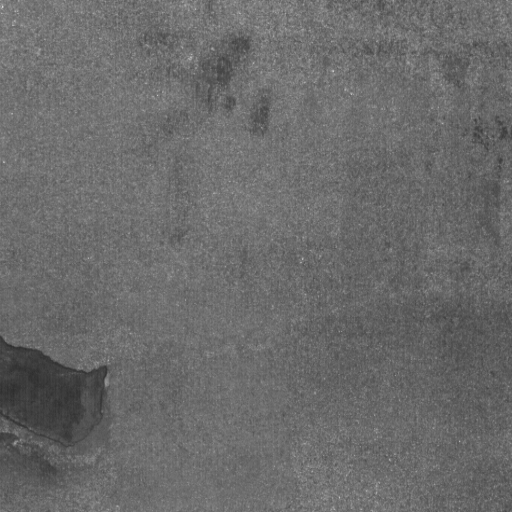qiaopi: (1, 333, 111, 450)
